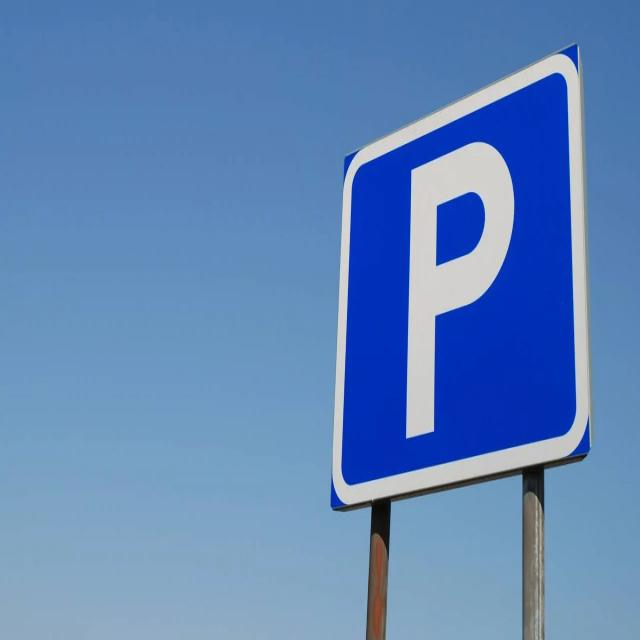parking: (339, 105, 595, 491)
